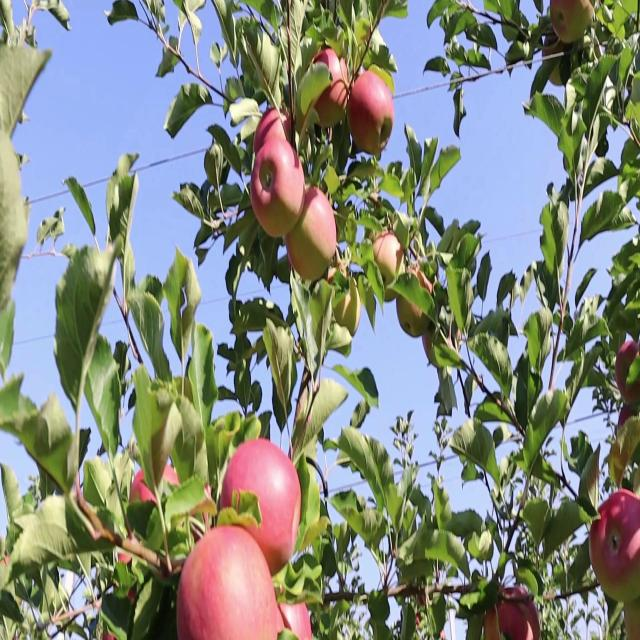apple: (248, 106, 306, 244), (252, 142, 305, 242), (288, 184, 339, 284), (588, 497, 640, 583), (348, 71, 396, 158), (312, 49, 351, 133), (300, 184, 338, 270), (608, 412, 640, 489), (588, 504, 619, 583), (396, 279, 435, 341), (500, 583, 542, 639), (376, 234, 405, 304), (396, 291, 431, 347), (552, 0, 588, 48), (616, 405, 640, 476), (560, 0, 595, 48), (332, 284, 362, 338), (616, 341, 640, 404), (280, 597, 312, 639), (552, 1, 579, 46), (600, 574, 627, 608), (424, 327, 443, 370), (328, 248, 347, 290), (624, 597, 640, 639), (484, 604, 502, 639)
